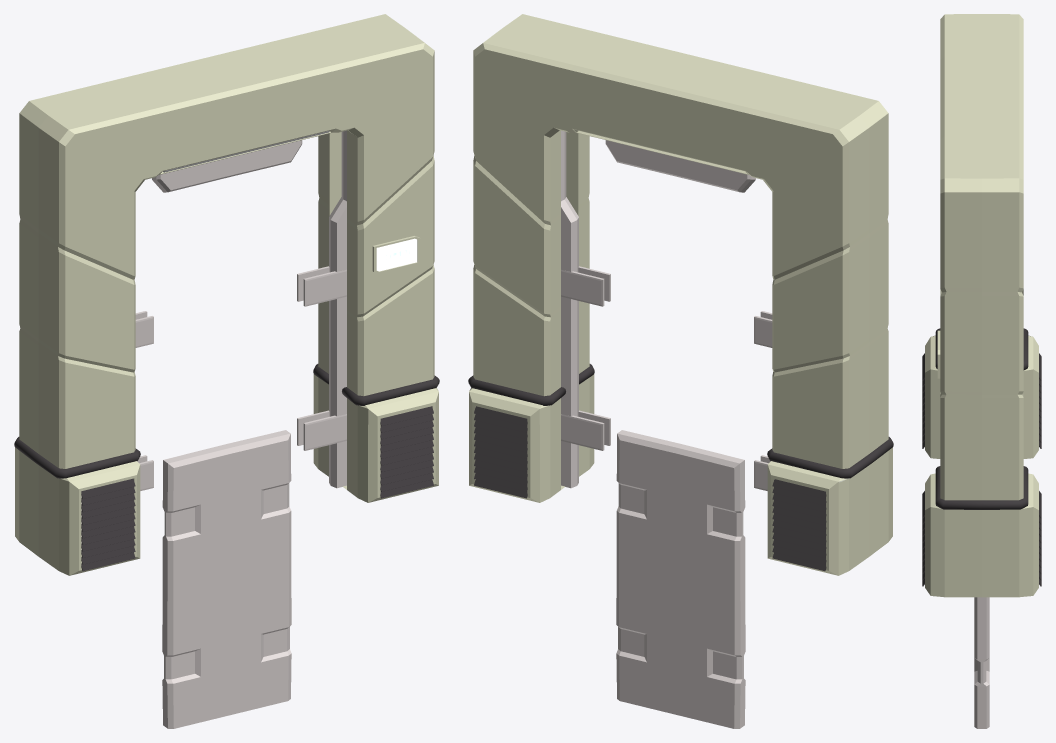
The model's file is dOOR.fbx.
The picture shows the model from 3 angles, left to right: view 1: azimuth 30°, elevation 25°; view 2: azimuth 150°, elevation 25°; view 3: azimuth 270°, elevation 25°; orthographic projection. The views are drawn at different scales.
Visible parts, largest first — view 1: Arch, Door Down, Ventelai.001, Door Right, Door up, Arch.001, Pannel, Door Left; view 2: Arch, Door Down, Ventelai.001, Door Right, Door up, Arch.001, Door Left; view 3: Arch, Door Down, Arch.001, Ventelai.001.
Part boxes in pixels (x1=…): Arch: x1=15, y1=14, x2=438, y2=575; Door Down: x1=162, y1=430, x2=291, y2=728; Ventelai.001: x1=81, y1=406, x2=433, y2=571; Door Right: x1=297, y1=130, x2=346, y2=488; Door up: x1=152, y1=140, x2=302, y2=192; Arch.001: x1=14, y1=364, x2=439, y2=478; Pannel: x1=372, y1=236, x2=420, y2=273; Door Left: x1=81, y1=311, x2=153, y2=549; Arch: x1=469, y1=14, x2=892, y2=575; Door Down: x1=616, y1=430, x2=745, y2=728; Ventelai.001: x1=474, y1=406, x2=826, y2=571; Door Right: x1=561, y1=130, x2=610, y2=488; Door up: x1=605, y1=140, x2=755, y2=192; Arch.001: x1=468, y1=364, x2=893, y2=478; Door Left: x1=754, y1=311, x2=772, y2=490; Arch: x1=925, y1=14, x2=1038, y2=597; Door Down: x1=974, y1=597, x2=989, y2=728; Arch.001: x1=935, y1=328, x2=1028, y2=509; Ventelai.001: x1=922, y1=353, x2=1041, y2=586.
Size of the model in its own units: 349 by 553 by 98.83.
